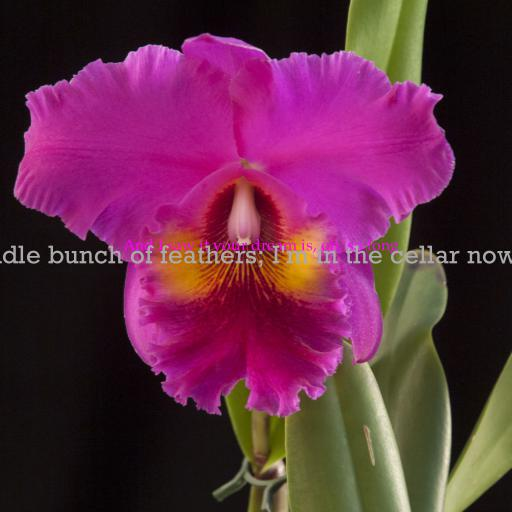Palatino: (123, 237, 399, 255)
Rockwell: (0, 245, 512, 267)
